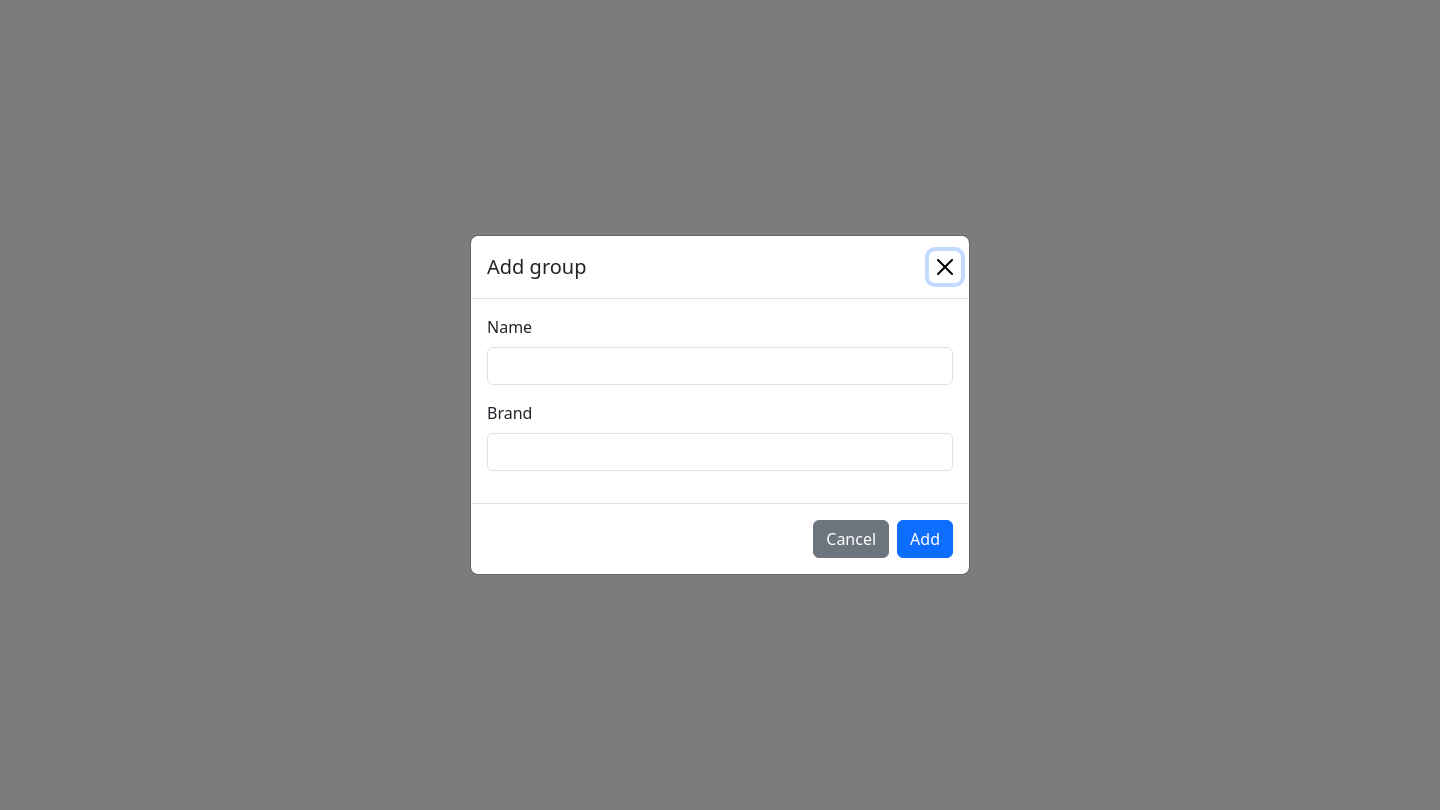
CreateGroupModal › shows error message when creation fails
Type "Breakfast Bowl" into the field labelled "Name".
click(720, 366); type("Breakfast Bowl")  # box [487,347,953,385]
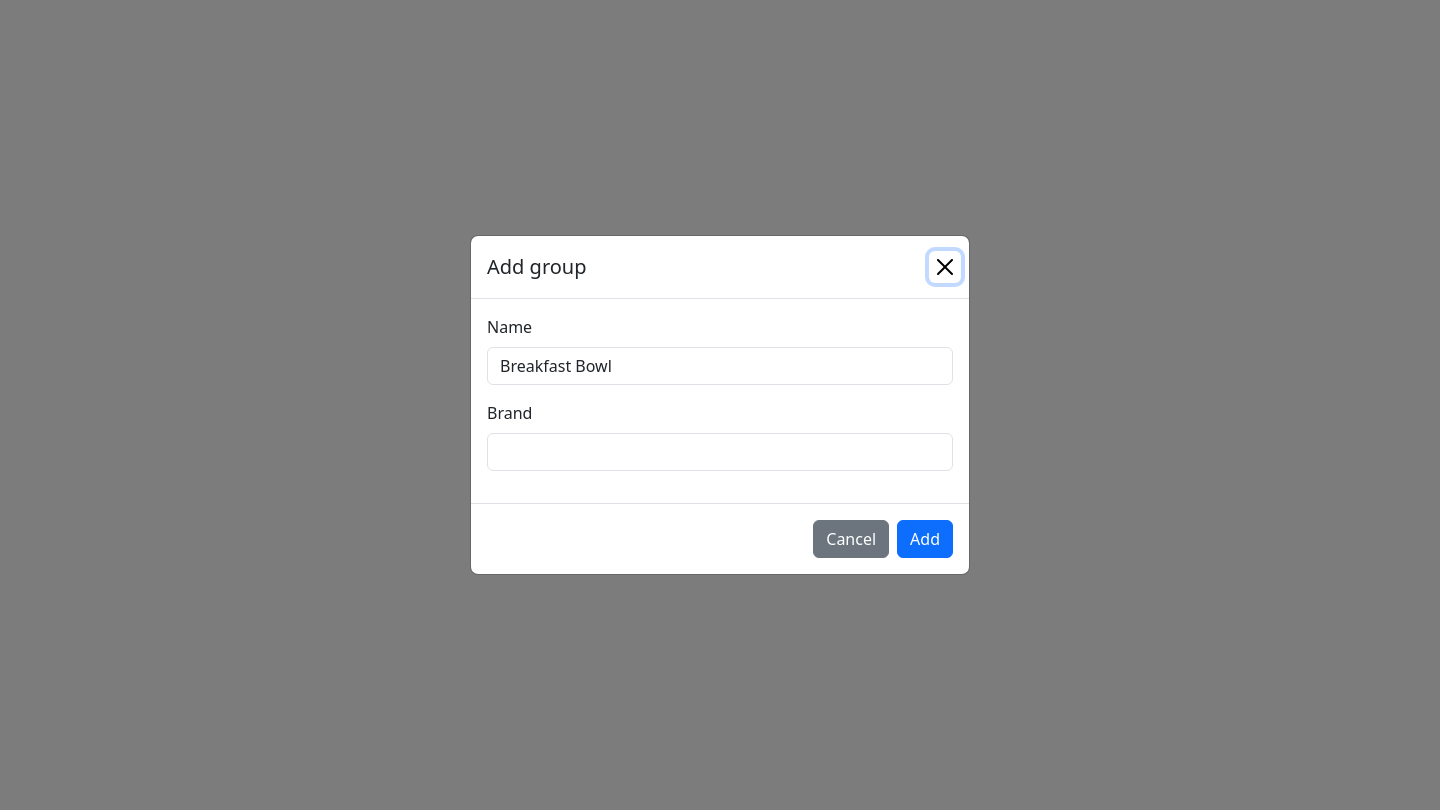
Click the button "Add".
click(925, 539)  # box [897,520,953,558]
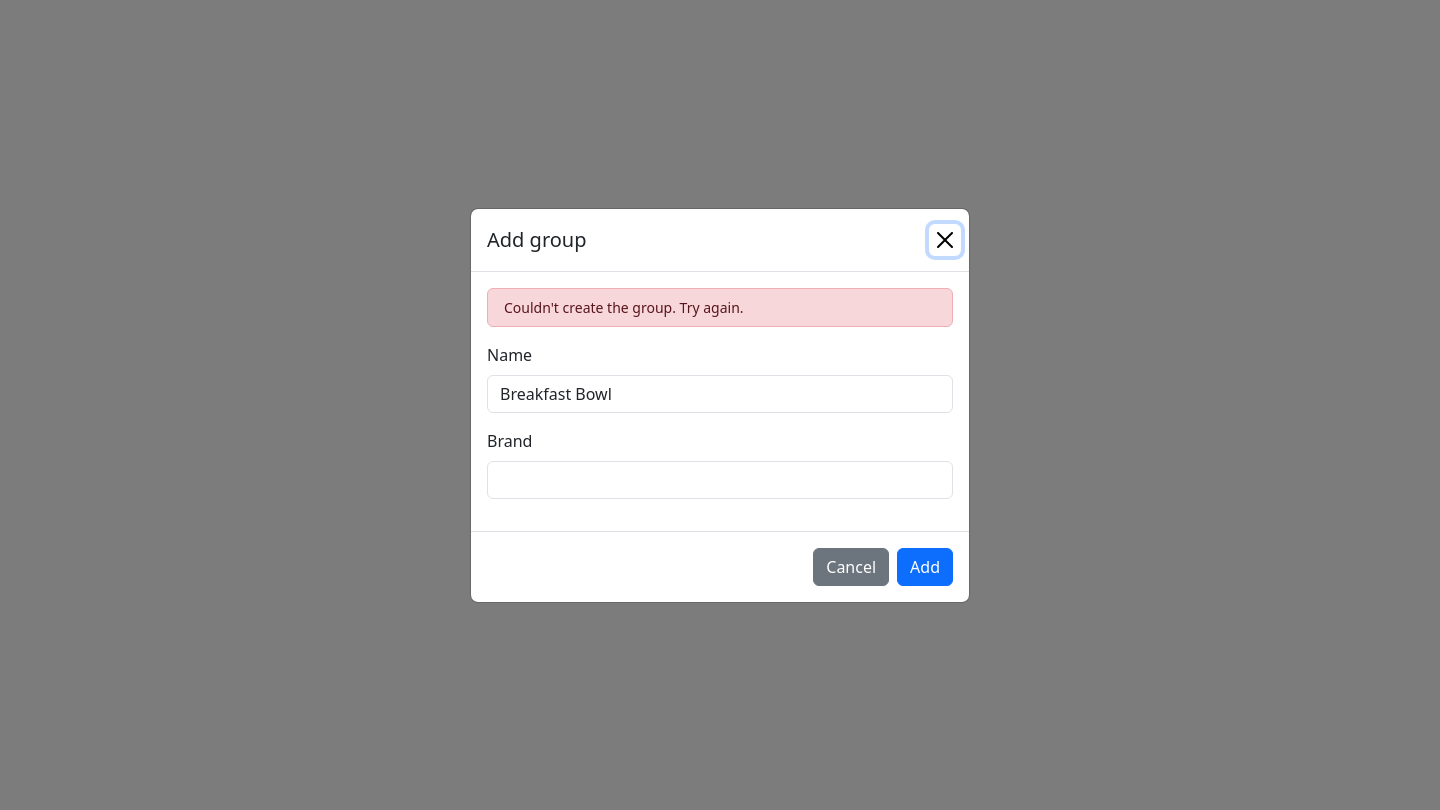
Now the message reads "Couldn't create the group. Try again.", box [504,298,744,316]
